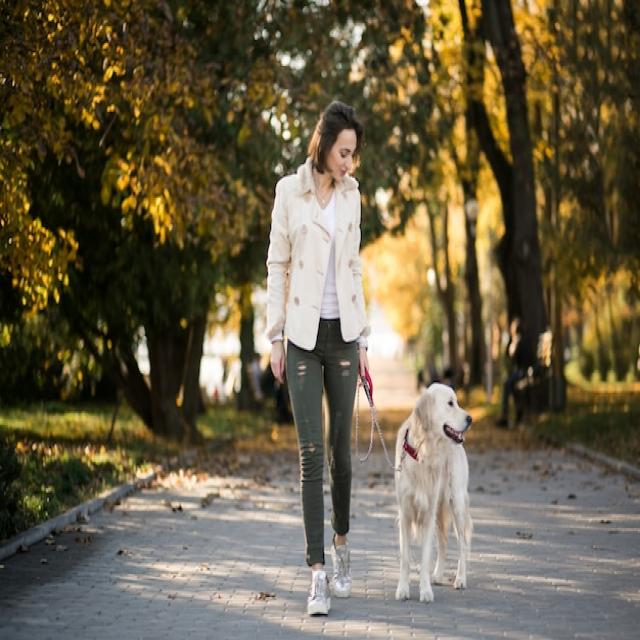Dog: (395, 384, 474, 604)
Person: (268, 102, 371, 616)
